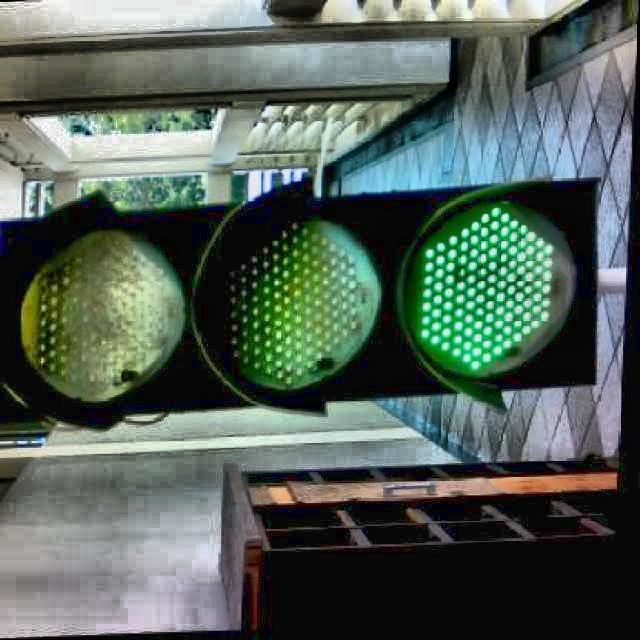green: (22, 189, 606, 400)
